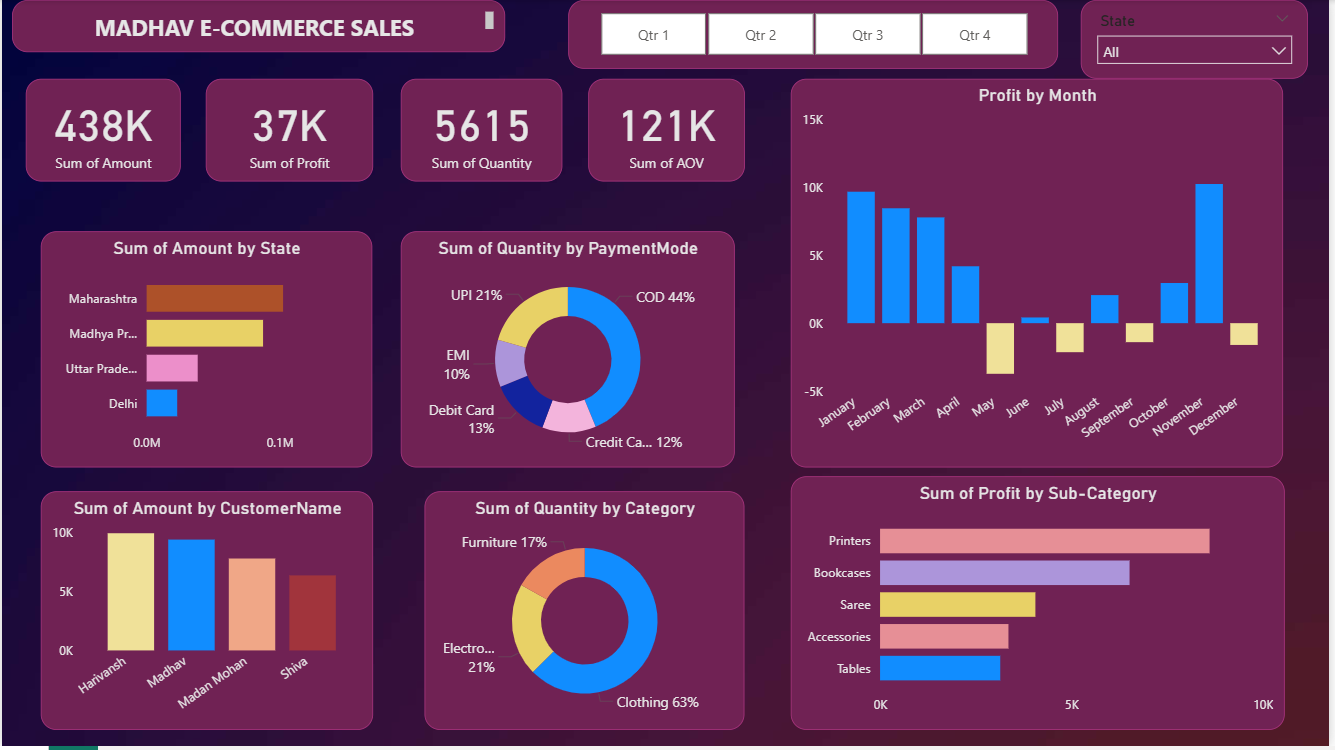

Layout of this report page (visuals, bound fields, positions):
{"tool":"powerbi","page":{"name":"Page 1","canvas":[1280,720],"ordinal":0},"visuals":[{"type":"textbox","box":[9.8,0,475.7,50],"z":0},{"type":"clusteredColumnChart","title":"Profit by Month","fields":{"Y":["Sum(Details.Profit)"],"Category":["Orders.Order Date.Variation.Date Hierarchy.Month"]},"box":[761.3,76,475.3,375.2],"z":1},{"type":"barChart","fields":{"Category":["Details.Sub-Category"],"Y":["Sum(Details.Profit)"]},"box":[761.3,459.7,476.5,244.9],"z":2},{"type":"donutChart","fields":{"Category":["Details.Category"],"Y":["Sum(Details.Quantity)"]},"box":[407.8,474.1,308.8,230.4],"z":3},{"type":"donutChart","fields":{"Y":["Sum(Details.Quantity)"],"Series":["Details.PaymentMode"]},"box":[384.9,223.2,322.1,228],"z":4},{"type":"card","fields":{"Values":["Sum(Details.Amount)"]},"box":[22.9,76,149.6,98.9],"z":5},{"type":"card","fields":{"Values":["Sum(Details.Quantity)"]},"box":[384.9,76,155.6,98.9],"z":6},{"type":"card","fields":{"Values":["Sum(Details.Profit)"]},"box":[196.6,76,161.7,98.9],"z":7},{"type":"card","fields":{"Values":["Sum(Details.AOV)"]},"box":[565.8,76,150.8,98.9],"z":8},{"type":"barChart","fields":{"Y":["Sum(Details.Amount)"],"Category":["Orders.State"]},"box":[37.4,223.2,319.7,228],"z":9},{"type":"columnChart","fields":{"Y":["Sum(Details.Amount)"],"Category":["Orders.CustomerName"]},"box":[37.4,474.1,320.9,230.4],"z":10},{"type":"slicer","fields":{"Values":["Orders.Order Date.Variation.Date Hierarchy.Quarter"]},"box":[546.5,0,472.9,66.4],"z":11},{"type":"slicer","fields":{"Values":["Orders.State"]},"box":[1041.2,0,219.6,76],"z":12}]}

Visuals, with their boxes in screenshot pixels (x1, y1, x2, y2), scaled from the page's 1280x720 canvas onto the 1335x750 screenshot:
textbox: crop(10, 0, 506, 52)
"Profit by Month" clusteredColumnChart: crop(794, 79, 1290, 470)
barChart - Details.Sub-Category x Sum(Details.Profit): crop(794, 479, 1291, 734)
donutChart - Details.Category x Sum(Details.Quantity): crop(425, 494, 747, 734)
donutChart - Sum(Details.Quantity) x Details.PaymentMode: crop(401, 232, 737, 470)
card - Sum(Details.Amount): crop(24, 79, 180, 182)
card - Sum(Details.Quantity): crop(401, 79, 564, 182)
card - Sum(Details.Profit): crop(205, 79, 374, 182)
card - Sum(Details.AOV): crop(590, 79, 747, 182)
barChart - Sum(Details.Amount) x Orders.State: crop(39, 232, 372, 470)
columnChart - Sum(Details.Amount) x Orders.CustomerName: crop(39, 494, 374, 734)
slicer - Orders.Order Date.Variation.Date Hierarchy.Quarter: crop(570, 0, 1063, 69)
slicer - Orders.State: crop(1086, 0, 1315, 79)
